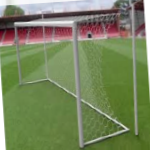goals: (13, 13, 131, 149)
